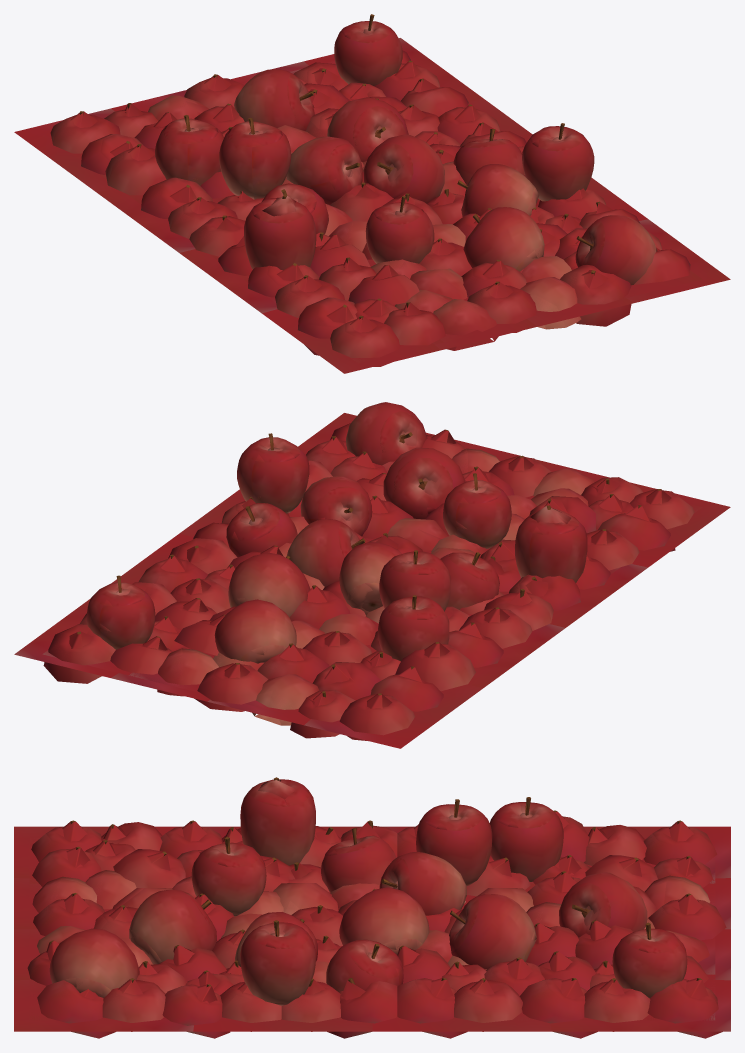
File: ApplePile.glb
3 renders of one model, top to bottom at view 1: azimuth 30°, elevation 25°; view 2: azimuth 150°, elevation 25°; view 3: azimuth 270°, elevation 25°, orthographic. The views are drawn at different scales.
Visible parts, largest first — view 1: Apple_Pile; view 2: Apple_Pile; view 3: Apple_Pile.
Part boxes in pixels (x1=…): Apple_Pile: x1=14, y1=14, x2=730, y2=373; Apple_Pile: x1=14, y1=402, x2=730, y2=748; Apple_Pile: x1=14, y1=777, x2=730, y2=1038.
Size of the model in its own units: 0.4777 by 0.1268 by 0.707.
Materials: 1 (1 with a texture image).
